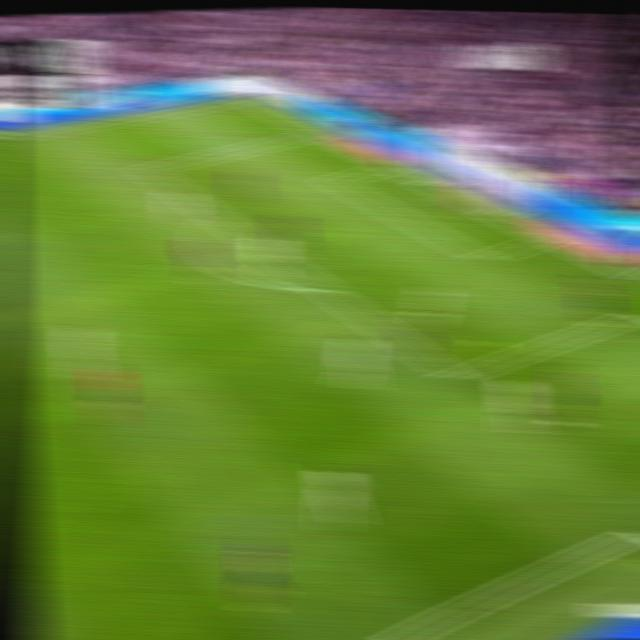bigarea_bottom_inner: (442, 364, 470, 389)
bigarea_top_inner: (133, 160, 160, 178)
bigarea_top_outter: (302, 125, 328, 139)
bottom_arc_area_intersection: (311, 280, 339, 299)
corner: (230, 93, 255, 103)
smallarea_top_inner: (322, 175, 347, 187)
top_arc_area_intersection: (206, 210, 231, 224)
